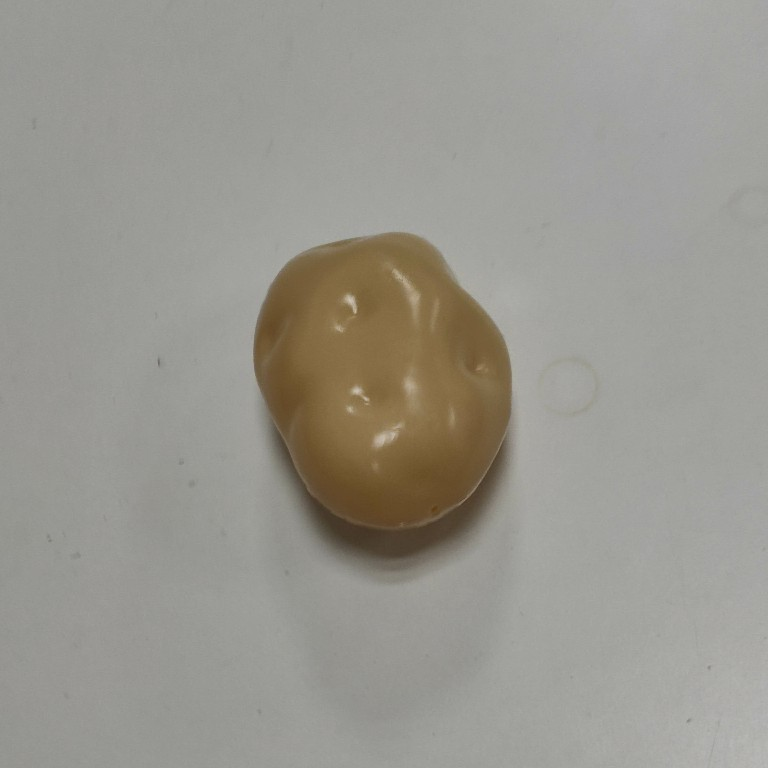fruit_potato: (249, 228, 516, 537)
